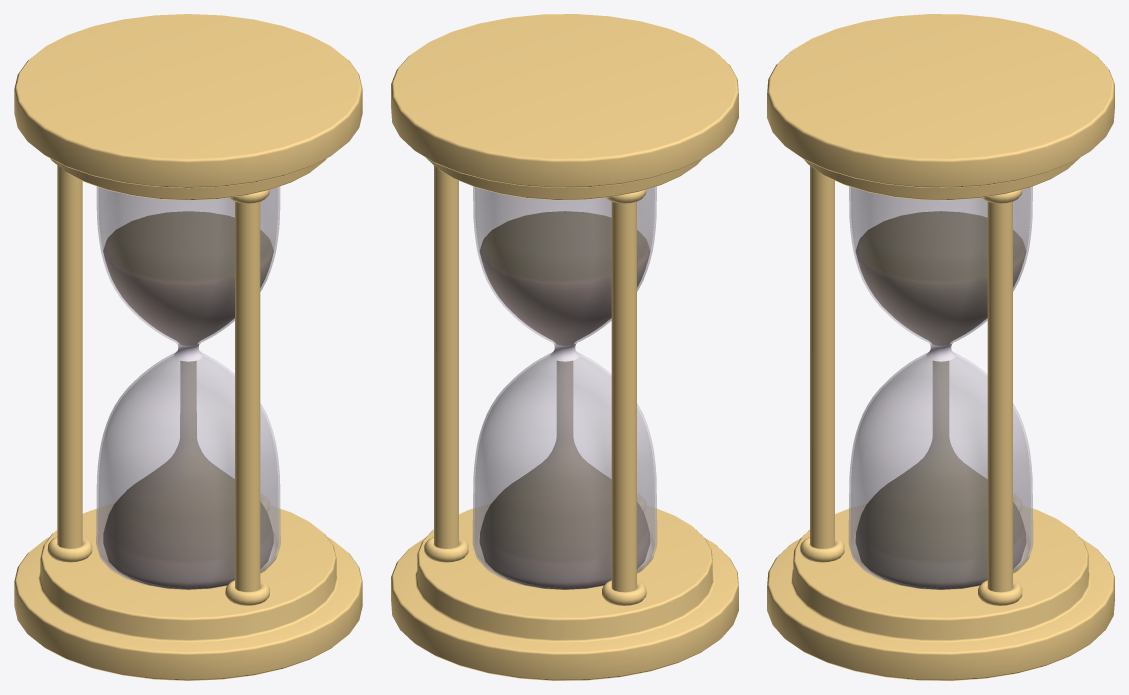
File: Hourglass.glb
3 renders of one model, left to right at view 1: azimuth 30°, elevation 25°; view 2: azimuth 150°, elevation 25°; view 3: azimuth 270°, elevation 25°, orthographic.
Visible parts, largest first — view 1: hourglass_frame, hourglass_glass, hourglass_sand; view 2: hourglass_frame, hourglass_glass, hourglass_sand; view 3: hourglass_frame, hourglass_glass, hourglass_sand.
Part boxes in pixels (x1=…): hourglass_frame: x1=14, y1=14, x2=362, y2=680; hourglass_glass: x1=96, y1=186, x2=280, y2=589; hourglass_sand: x1=103, y1=211, x2=273, y2=589; hourglass_frame: x1=391, y1=14, x2=738, y2=680; hourglass_glass: x1=472, y1=186, x2=657, y2=589; hourglass_sand: x1=480, y1=211, x2=649, y2=589; hourglass_frame: x1=767, y1=14, x2=1114, y2=680; hourglass_glass: x1=848, y1=186, x2=1033, y2=589; hourglass_sand: x1=856, y1=211, x2=1025, y2=589.
Bounding box in the file's own units: 0.8355 × 1.39 × 0.8355.
Materials: 2 (2 with a texture image).
